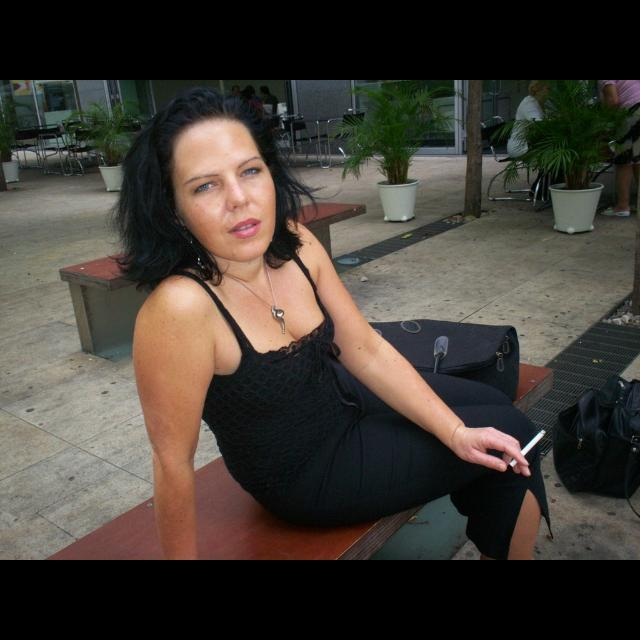rokok: (509, 426, 546, 472)
